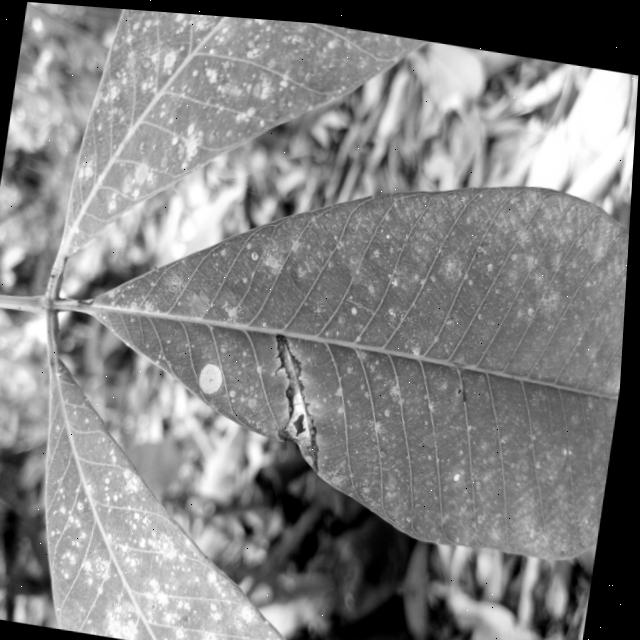Corynespora: (262, 325, 341, 468)
Leaf-Blight: (200, 356, 229, 392)
